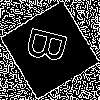B: (25, 25, 78, 68)
